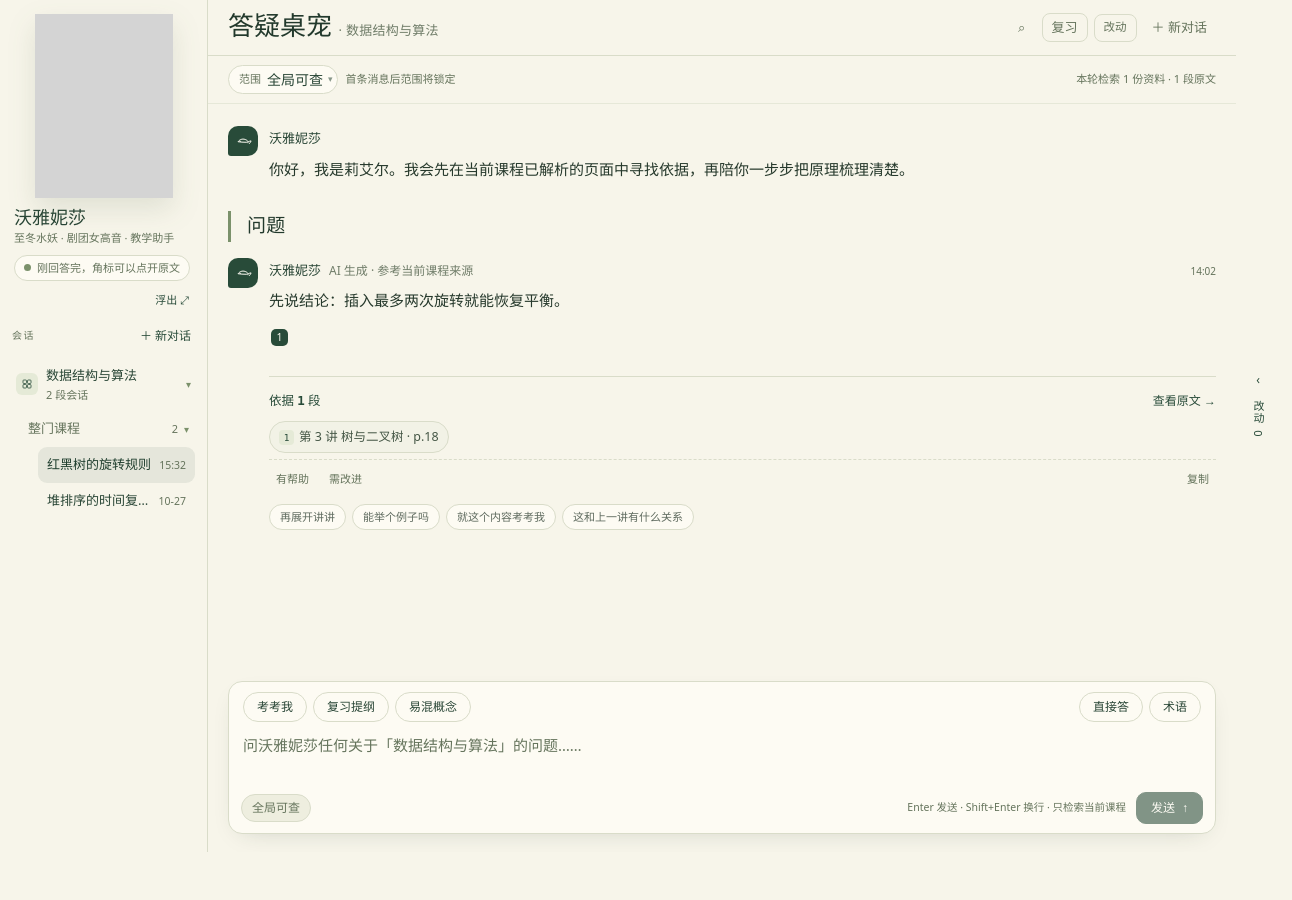
Test case: 回答正文不露出机器标记，点角标会定位并展开卡底依据
The image size is (1292, 900).
Expected: the element named "回答依据" is shown, [269, 376, 1216, 453]
What coordinates should you click on to do the following:
click the button named "查看依据 1：第 3 讲 树与二叉树"
I would click on:
 (280, 338)
Its box is [271, 329, 288, 346].
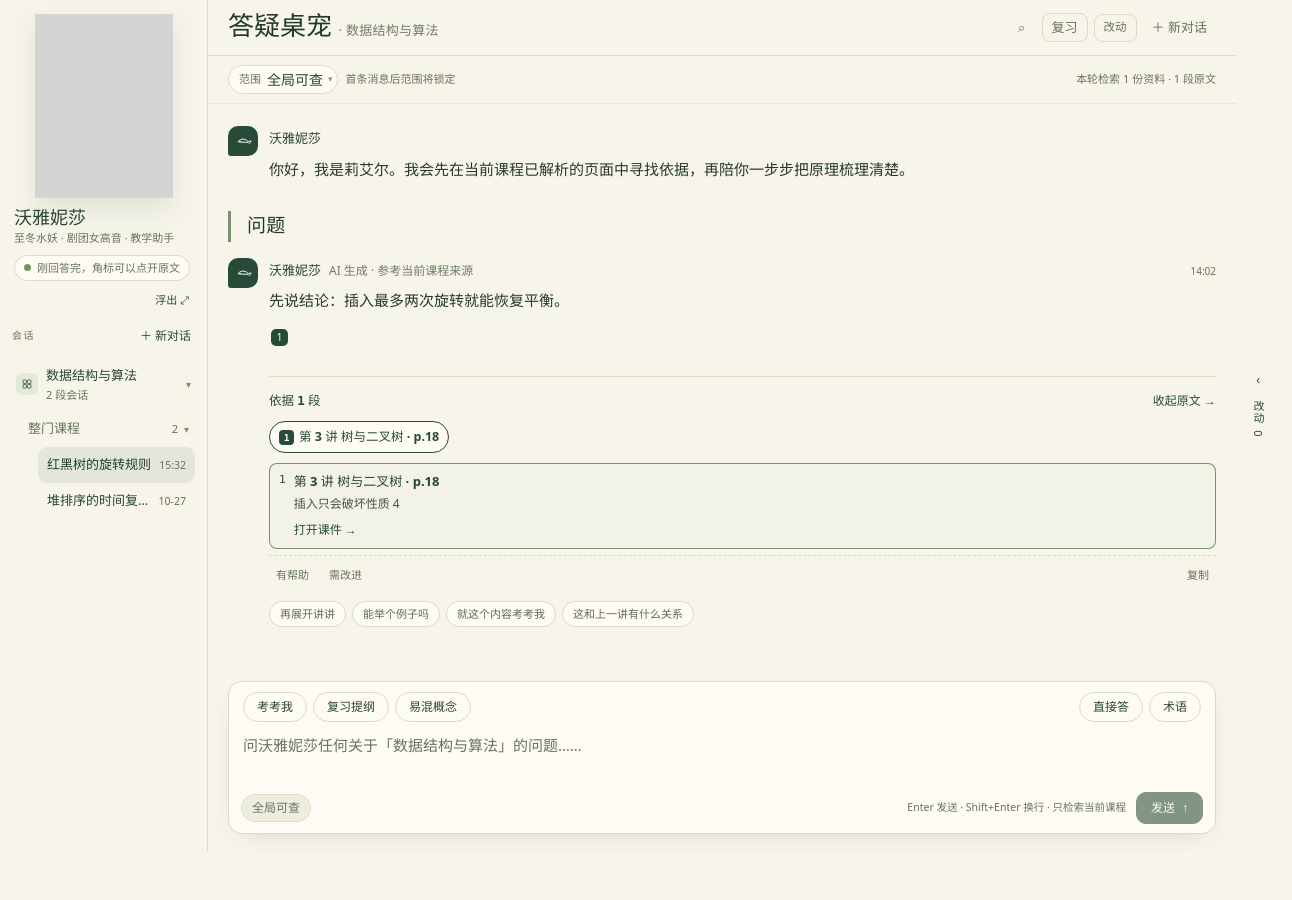
Result: the button with class "is-active" showing "1 第 3 讲 树与二叉树 · p.18" is shown at [269, 421, 449, 453]
Result: the list with class "workspace-source-detail" is shown at [269, 463, 1216, 549]
Result: the text "插入只会破坏性质 4" is shown at [294, 496, 400, 512]
What coordinates should you click on to do the following:
click the button "收起原文 →"
I would click on:
 (1184, 401)
Its box is [1153, 389, 1216, 413].
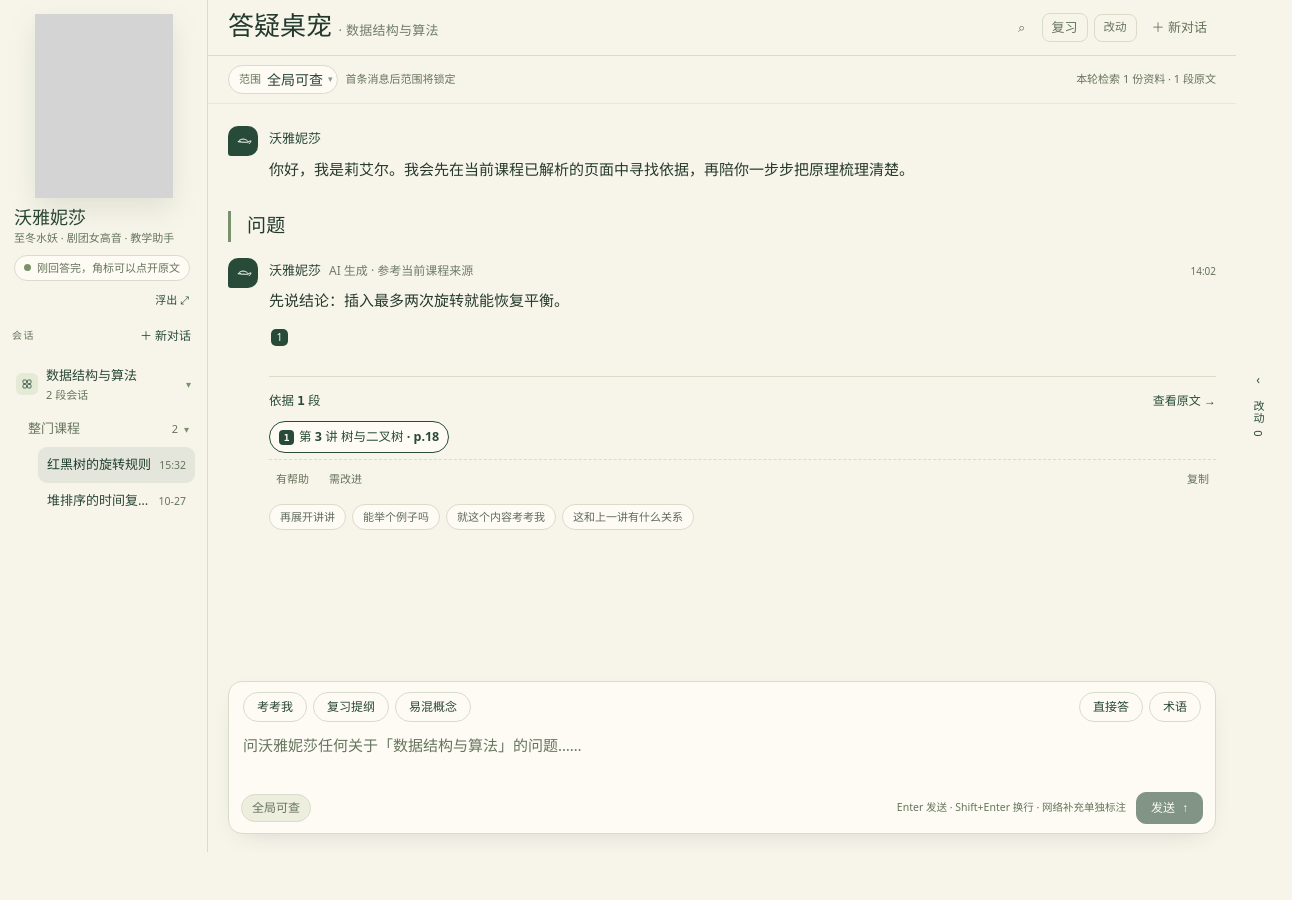
Result: the list with class "workspace-source-detail" is gone
